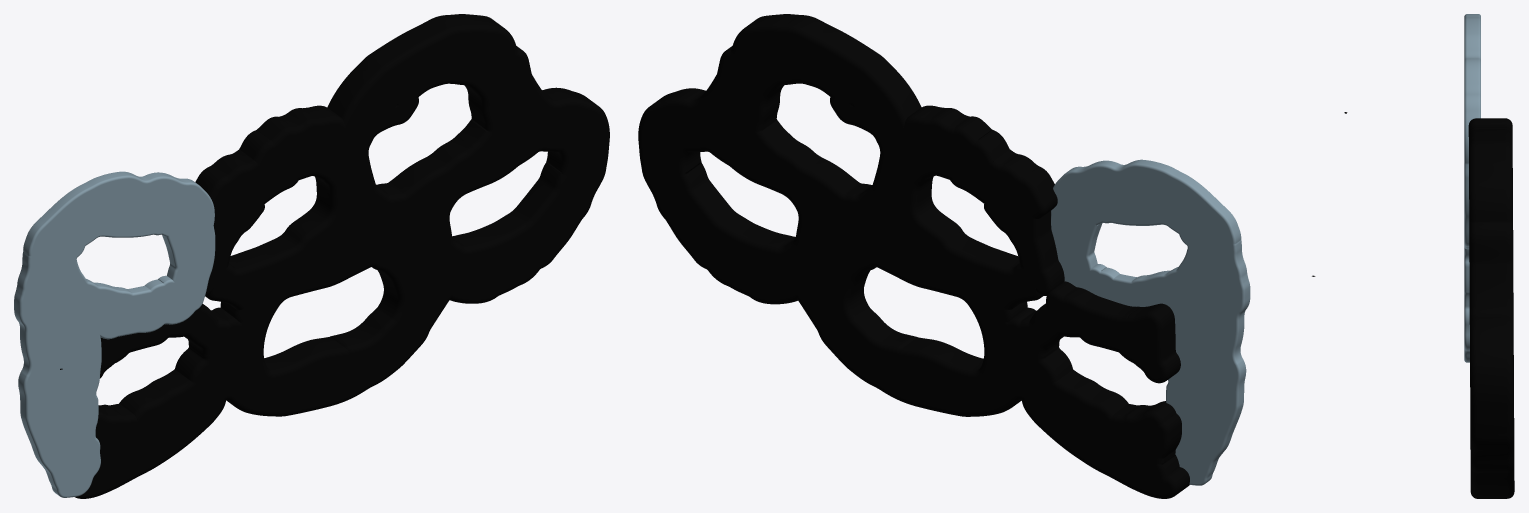
The model's file is bottle holder.fbx.
The picture shows the model from 3 angles, left to right: view 1: azimuth 30°, elevation 25°; view 2: azimuth 150°, elevation 25°; view 3: azimuth 270°, elevation 25°; orthographic projection. The views are drawn at different scales.
Visible parts, largest first — view 1: Curve.001, Curve; view 2: Curve.001, Curve; view 3: Curve.001, Curve.
Part boxes in pixels (left/top/right/bottom): Curve.001: left=75, top=14, right=609, bottom=498; Curve: left=14, top=171, right=215, bottom=497; Curve.001: left=638, top=14, right=1189, bottom=498; Curve: left=1051, top=159, right=1250, bottom=485; Curve.001: left=1468, top=118, right=1514, bottom=498; Curve: left=1464, top=14, right=1480, bottom=362.
Bounding box in the file's own units: 19.13 × 11.56 × 4.05.
